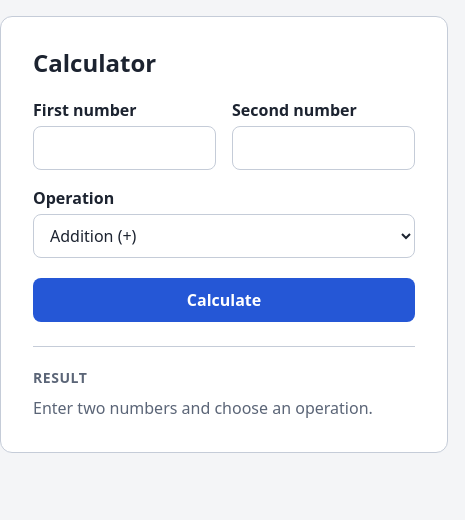
Calculator › request failures › shows a generic message for server errors without leaking details
Step 1. Type "1" into the field labelled "First number" → (124, 148), box [33,126,216,170]
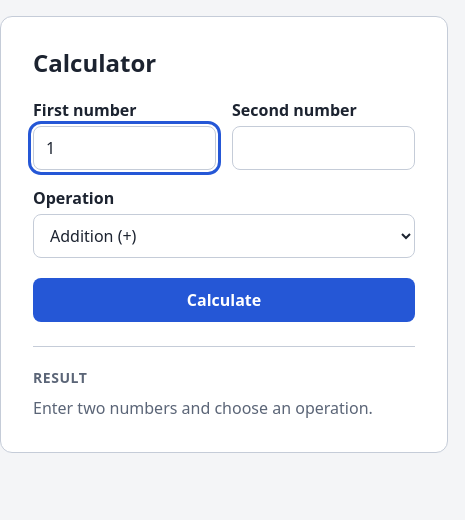
Step 2. Type "2" into the field labelled "Second number" → (324, 148), box [232,126,415,170]
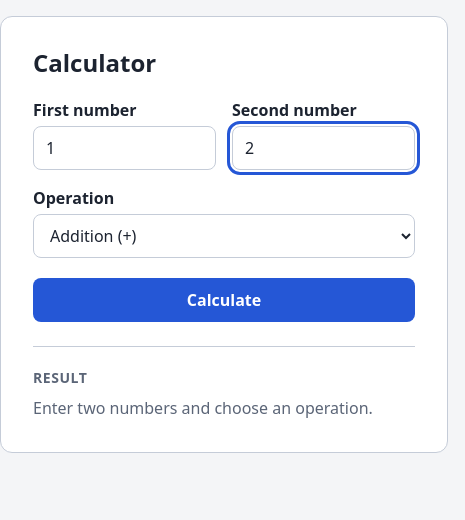
Step 3. Click the button "Calculate" → (224, 300), box [33,278,415,322]
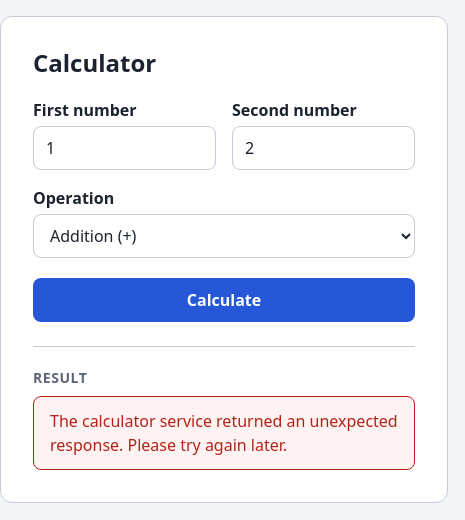
Expected: the message does not show "stack trace", [33,396,415,470]
Expected: the message shows "unexpected response", [50,410,398,456]
